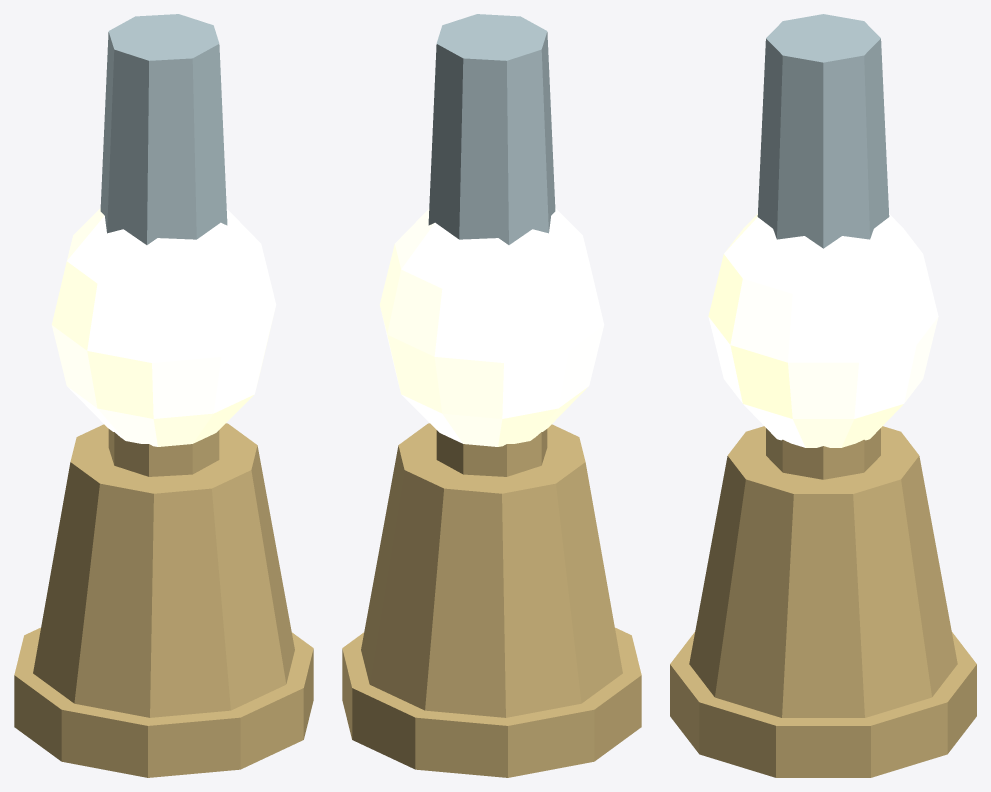
Rendered from SM_Oil_Lamp.glb.
The picture shows the model from 3 angles, left to right: view 1: azimuth 30°, elevation 25°; view 2: azimuth 150°, elevation 25°; view 3: azimuth 270°, elevation 25°; orthographic projection.
Parts seen in each view (by area): view 1: SM_Oil_Lamp; view 2: SM_Oil_Lamp; view 3: SM_Oil_Lamp.
Part boxes in pixels (x1,y1,x2,y2): SM_Oil_Lamp: (14,14,313,777); SM_Oil_Lamp: (342,14,641,777); SM_Oil_Lamp: (670,14,976,777).
Size of the model in its own units: 0.1522 by 0.39 by 0.16.
